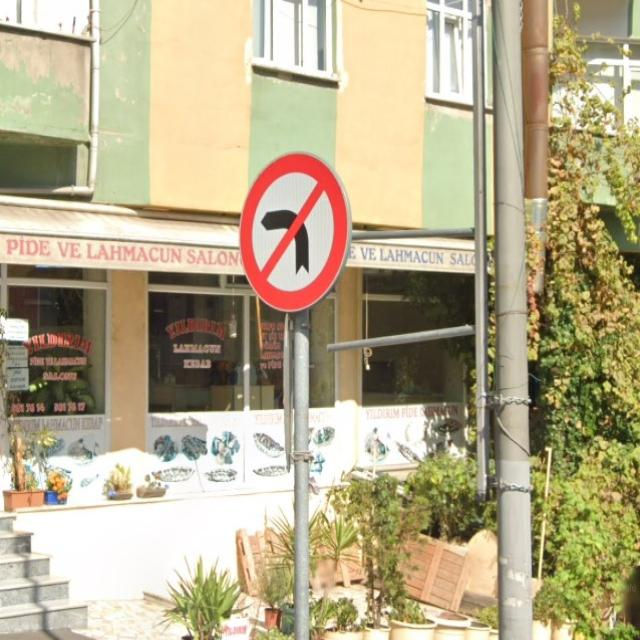soladonulmez: (240, 152, 350, 312)
